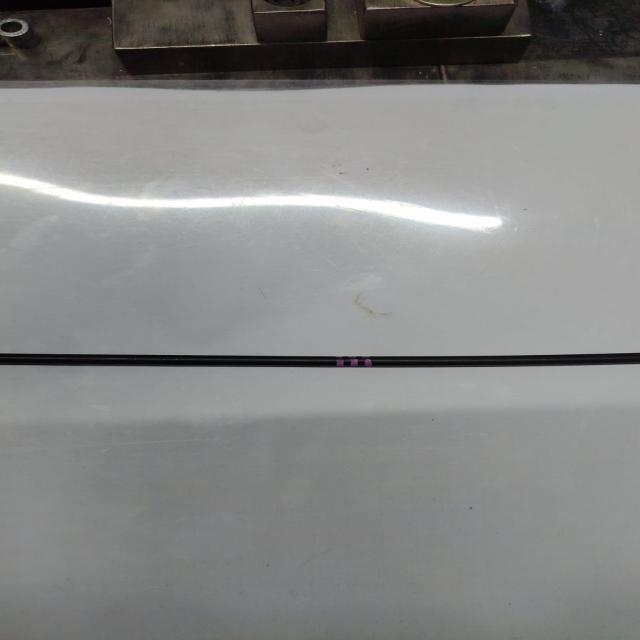pink: (336, 356, 372, 367)
